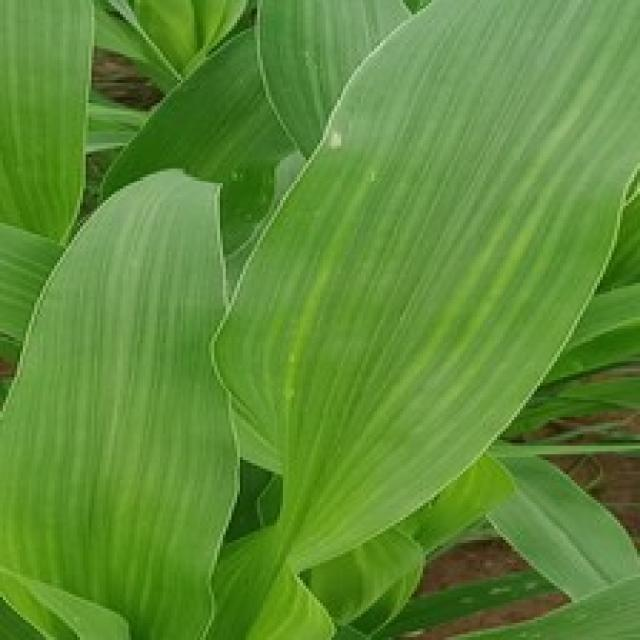Corn: (0, 0, 637, 637), (0, 166, 243, 637), (0, 0, 94, 345), (252, 0, 414, 157)
